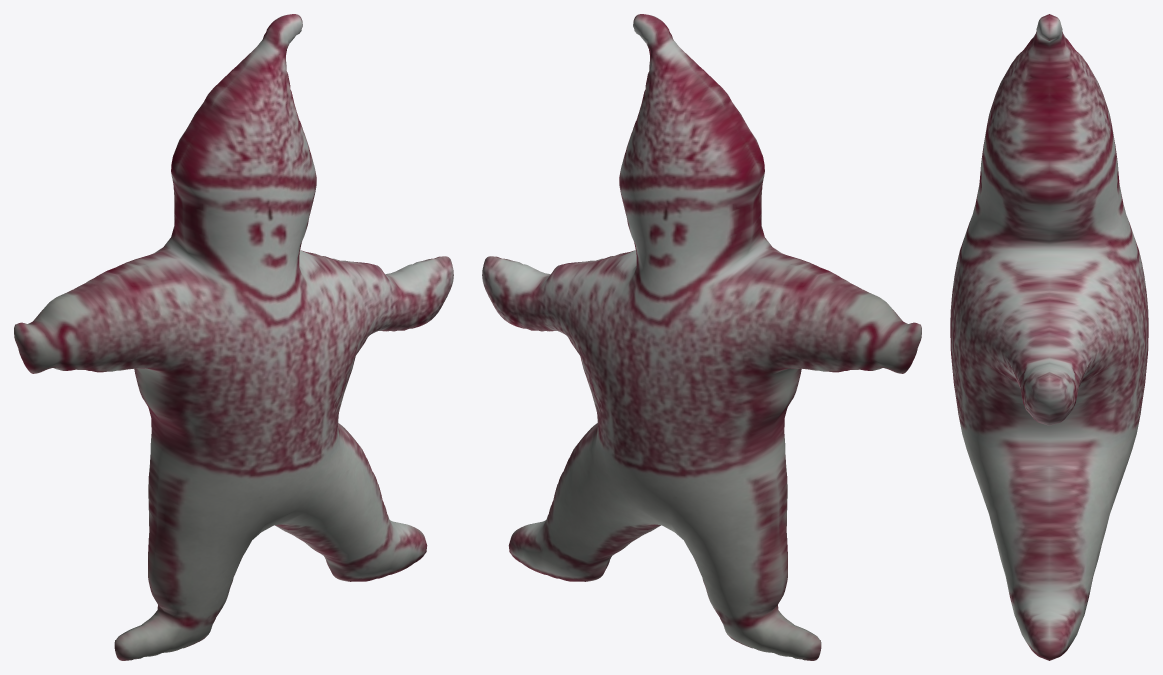
3 renders of one model, left to right at view 1: azimuth 30°, elevation 25°; view 2: azimuth 150°, elevation 25°; view 3: azimuth 270°, elevation 25°, orthographic.
Bounding box in the file's own units: 3.35 × 4.43 × 1.3.
1 material, 1 textured.
